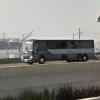Bus: (17, 36, 95, 65)
